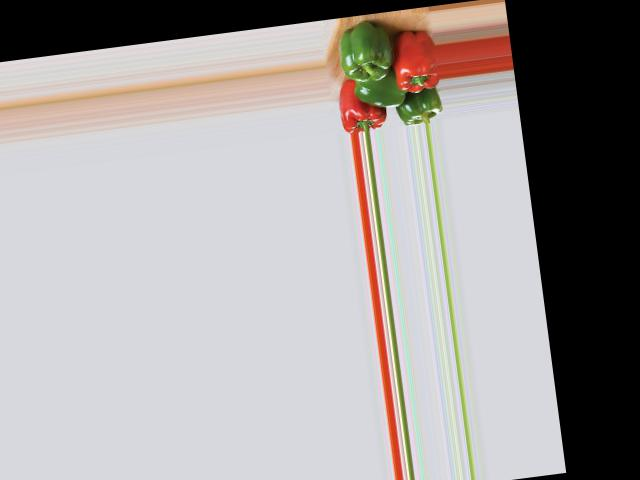bell_pepper: (386, 22, 440, 93)
